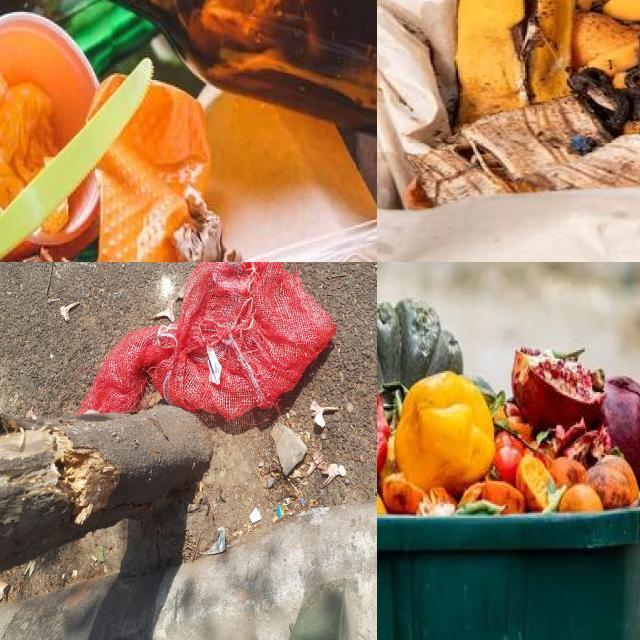Background: (0, 262, 377, 640)
Garbage: (377, 298, 640, 516), (420, 0, 640, 204)
Glass_bottle: (106, 0, 377, 132)
Plastic: (0, 58, 152, 262), (96, 83, 209, 262), (248, 219, 377, 262)
Plastic_Bag: (78, 262, 336, 420)
Plastic_wraper: (203, 527, 226, 554)
contaminated_waste: (106, 0, 377, 133)
